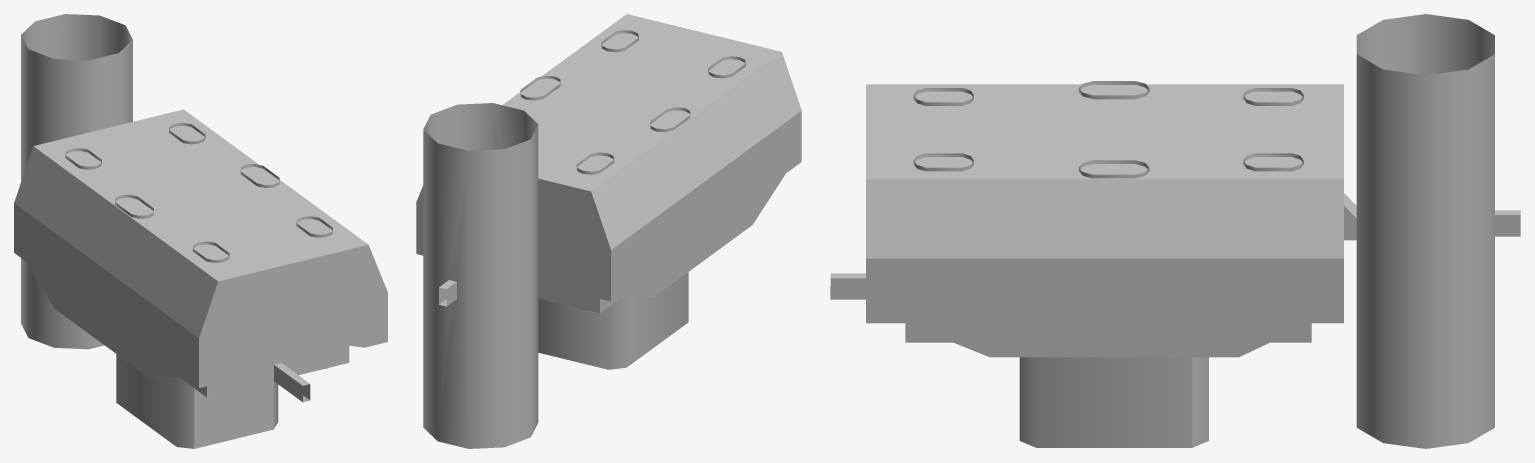
The model's file is chamber-e.FBX.
3 views of the same model, side by side, from view 1: azimuth 30°, elevation 25°; view 2: azimuth 150°, elevation 25°; view 3: azimuth 270°, elevation 25° (orthographic). The views are drawn at different scales.
Visible parts, largest first — view 1: ChamberE, ColumnsE; view 2: ChamberE, ColumnsE; view 3: ChamberE, ColumnsE.
Boxes of the visible parts, x1,y1,x2,y2 form: ChamberE: [14, 14, 387, 448]; ColumnsE: [65, 123, 332, 394]; ChamberE: [416, 14, 801, 448]; ColumnsE: [520, 30, 745, 310]; ChamberE: [830, 14, 1520, 448]; ColumnsE: [913, 81, 1303, 178].
Bounding box in the file's own units: 49.17 × 71.86 × 120.
